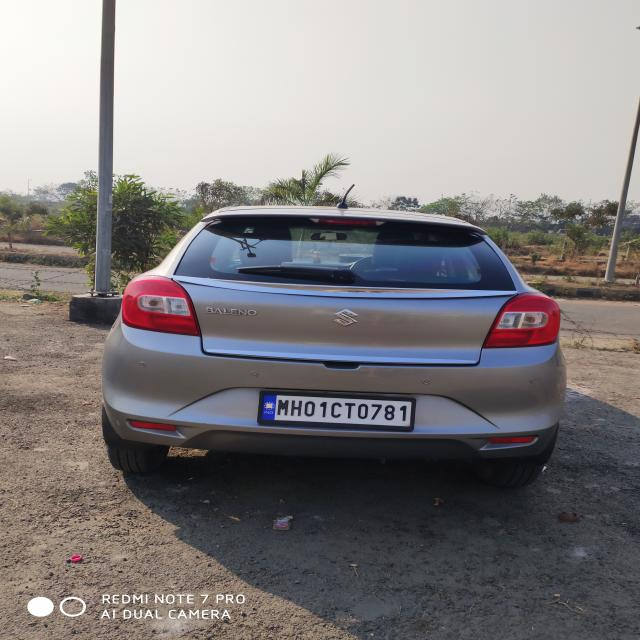Number-Plate: (264, 396, 411, 425)
